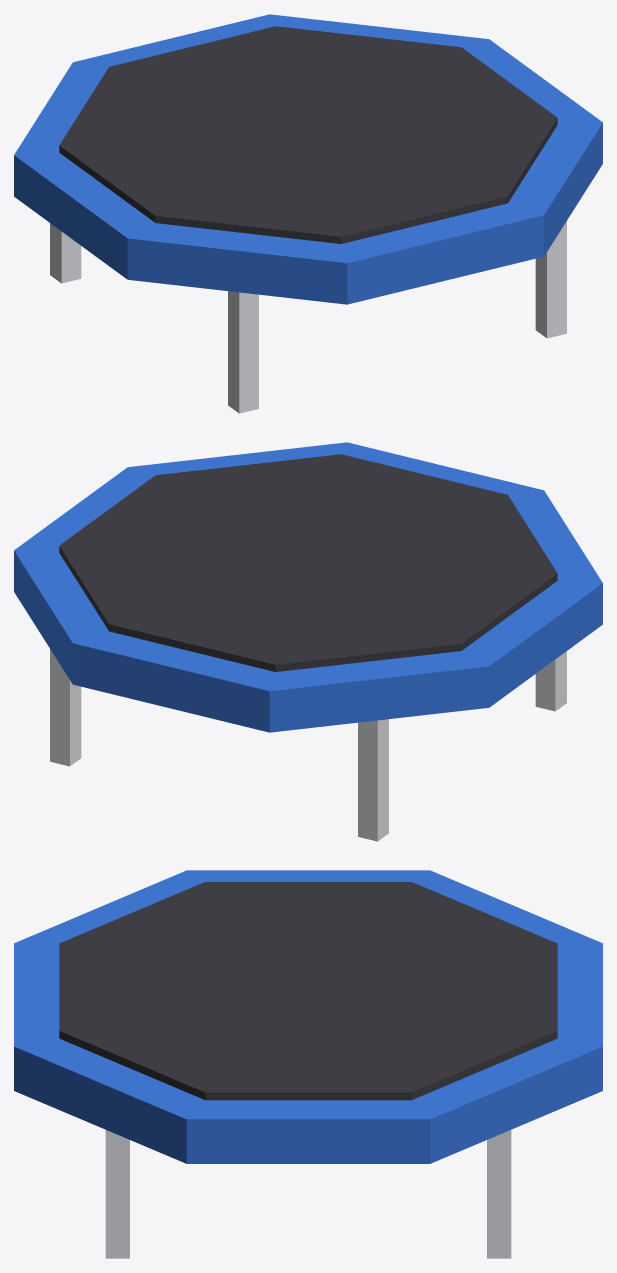
File: Trampoline.fbx
3 renders of one model, top to bottom at view 1: azimuth 30°, elevation 25°; view 2: azimuth 150°, elevation 25°; view 3: azimuth 270°, elevation 25°, orthographic. The views are drawn at different scales.
Parts seen in each view (by area): view 1: Trampoline; view 2: Trampoline; view 3: Trampoline.
Part boxes in pixels (x1,y1,x2,y2): Trampoline: [14, 14, 602, 413]; Trampoline: [14, 442, 602, 841]; Trampoline: [14, 870, 602, 1258].
Bounding box in the file's own units: 4.8 × 1.67 × 4.8.
1 material, 1 textured.
